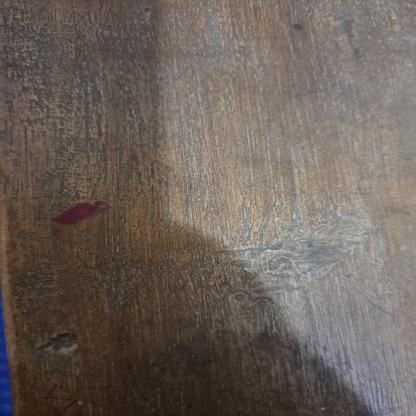spot: (32, 188, 142, 228)
